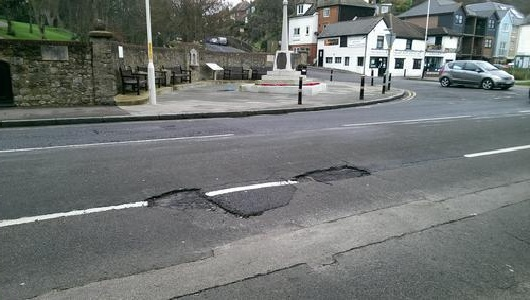pothole: (144, 185, 212, 211), (295, 163, 373, 185)
